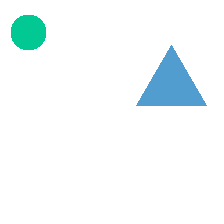circle: (11, 15, 45, 49)
triangle: (136, 45, 206, 105)
